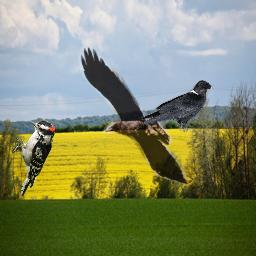Crow: (78, 45, 189, 187), (137, 80, 213, 134)
Woodpecker: (13, 119, 55, 196)
